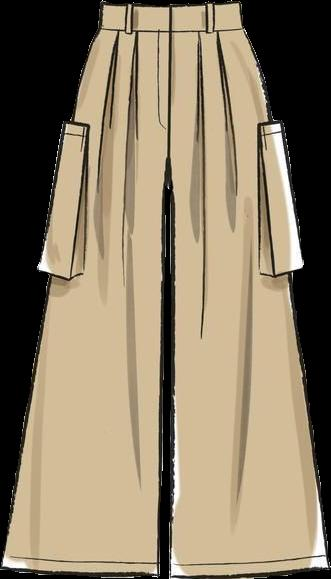Hemline: (169, 560, 330, 578), (0, 559, 161, 577)
Pantleg: (2, 0, 169, 578), (167, 2, 328, 578)
Waistline: (95, 22, 246, 38), (97, 0, 235, 12)
